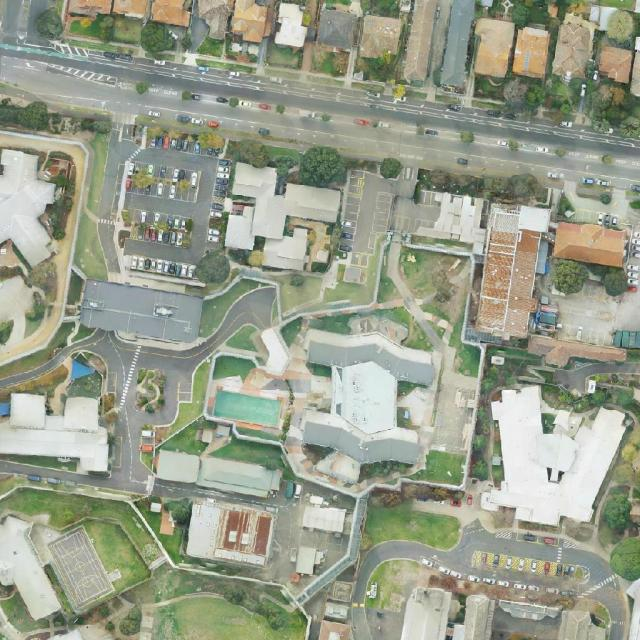building: (461, 375, 630, 542), (298, 328, 437, 467), (222, 162, 343, 275), (474, 201, 551, 344), (0, 393, 111, 474), (65, 1, 278, 43), (78, 278, 205, 347), (0, 510, 63, 626), (0, 149, 56, 267), (154, 448, 282, 499), (42, 525, 116, 611), (185, 499, 277, 568), (413, 188, 492, 252), (526, 334, 626, 377), (552, 218, 630, 269), (552, 13, 596, 82), (212, 389, 283, 428), (0, 265, 33, 346), (472, 18, 516, 77), (359, 15, 402, 60), (316, 8, 357, 50), (519, 27, 551, 79), (259, 326, 291, 376), (596, 45, 633, 84), (277, 2, 308, 47), (464, 594, 493, 640), (303, 504, 346, 533), (587, 3, 618, 33), (294, 546, 316, 576)
greenland: (416, 169, 547, 204), (366, 503, 461, 549), (224, 132, 302, 180), (473, 72, 547, 114), (587, 81, 640, 138), (552, 259, 630, 296), (469, 402, 505, 481), (575, 380, 640, 418), (68, 11, 143, 43), (133, 17, 178, 63), (299, 147, 346, 187), (367, 483, 435, 510), (542, 74, 581, 121), (31, 5, 69, 44), (310, 43, 351, 78), (354, 52, 396, 82), (602, 493, 632, 532), (196, 251, 230, 283), (606, 9, 635, 44), (477, 363, 502, 403), (196, 35, 226, 61), (425, 485, 465, 502), (379, 157, 404, 180), (488, 0, 506, 20)
metalled_road: (99, 253, 290, 441), (349, 519, 561, 602), (110, 142, 219, 266), (376, 239, 447, 358), (333, 168, 399, 271), (0, 330, 104, 395), (153, 480, 288, 515), (582, 569, 640, 640), (98, 410, 150, 488), (85, 325, 137, 401), (97, 121, 133, 220), (265, 506, 305, 584), (594, 578, 640, 628), (558, 543, 604, 580), (97, 221, 122, 279), (390, 165, 418, 198)
